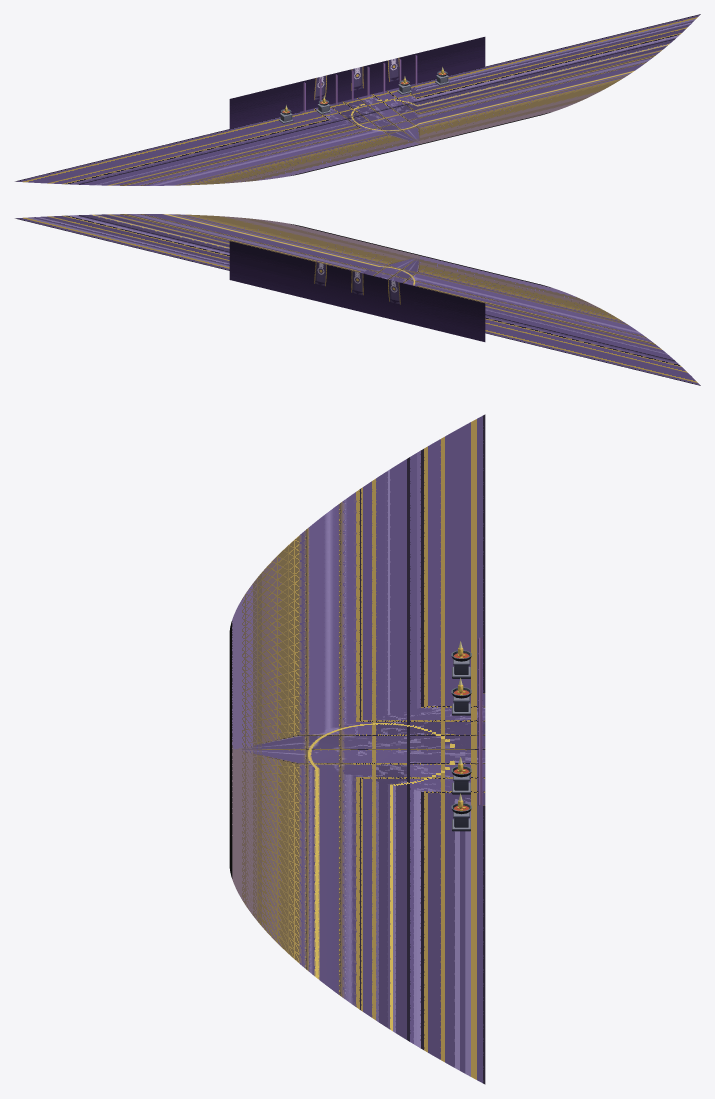
File: bg_elite.glb
The picture shows the model from 3 angles, top to bottom: view 1: azimuth 30°, elevation 25°; view 2: azimuth 150°, elevation 25°; view 3: azimuth 270°, elevation 25°; orthographic projection. The views are drawn at different scales.
Parts seen in each view (by area): view 1: elite_floor, elite_wall, pillars, elite_decor; view 2: elite_floor, elite_wall; view 3: elite_floor, elite_decor.
Boxes of the visible parts, box(x1,y1,x2,y2) form: elite_floor: box(15, 14, 700, 185); elite_wall: box(229, 37, 485, 128); pillars: box(303, 55, 417, 112); elite_decor: box(279, 71, 449, 123); elite_floor: box(15, 214, 700, 385); elite_wall: box(229, 241, 485, 341); elite_floor: box(229, 414, 485, 1084); elite_decor: box(451, 650, 471, 831).
Size of the model in its own units: 80 by 4.34 by 12.9.
7 materials, 2 textured.
